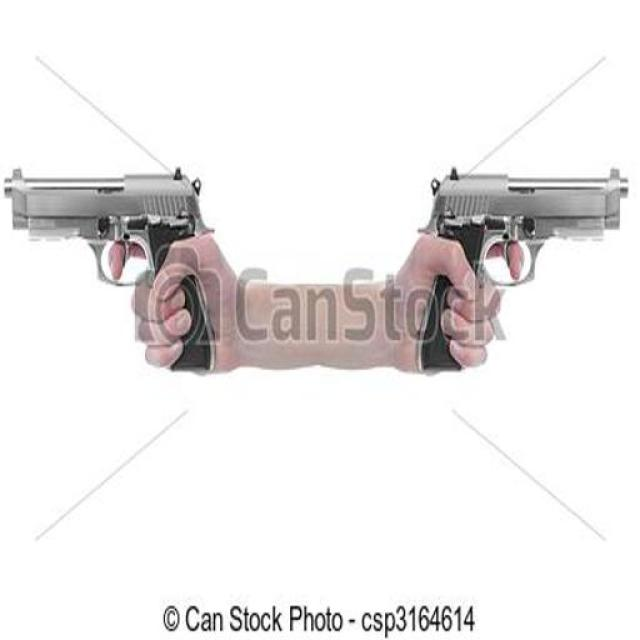pistol: (1, 160, 213, 373), (420, 164, 625, 374)
